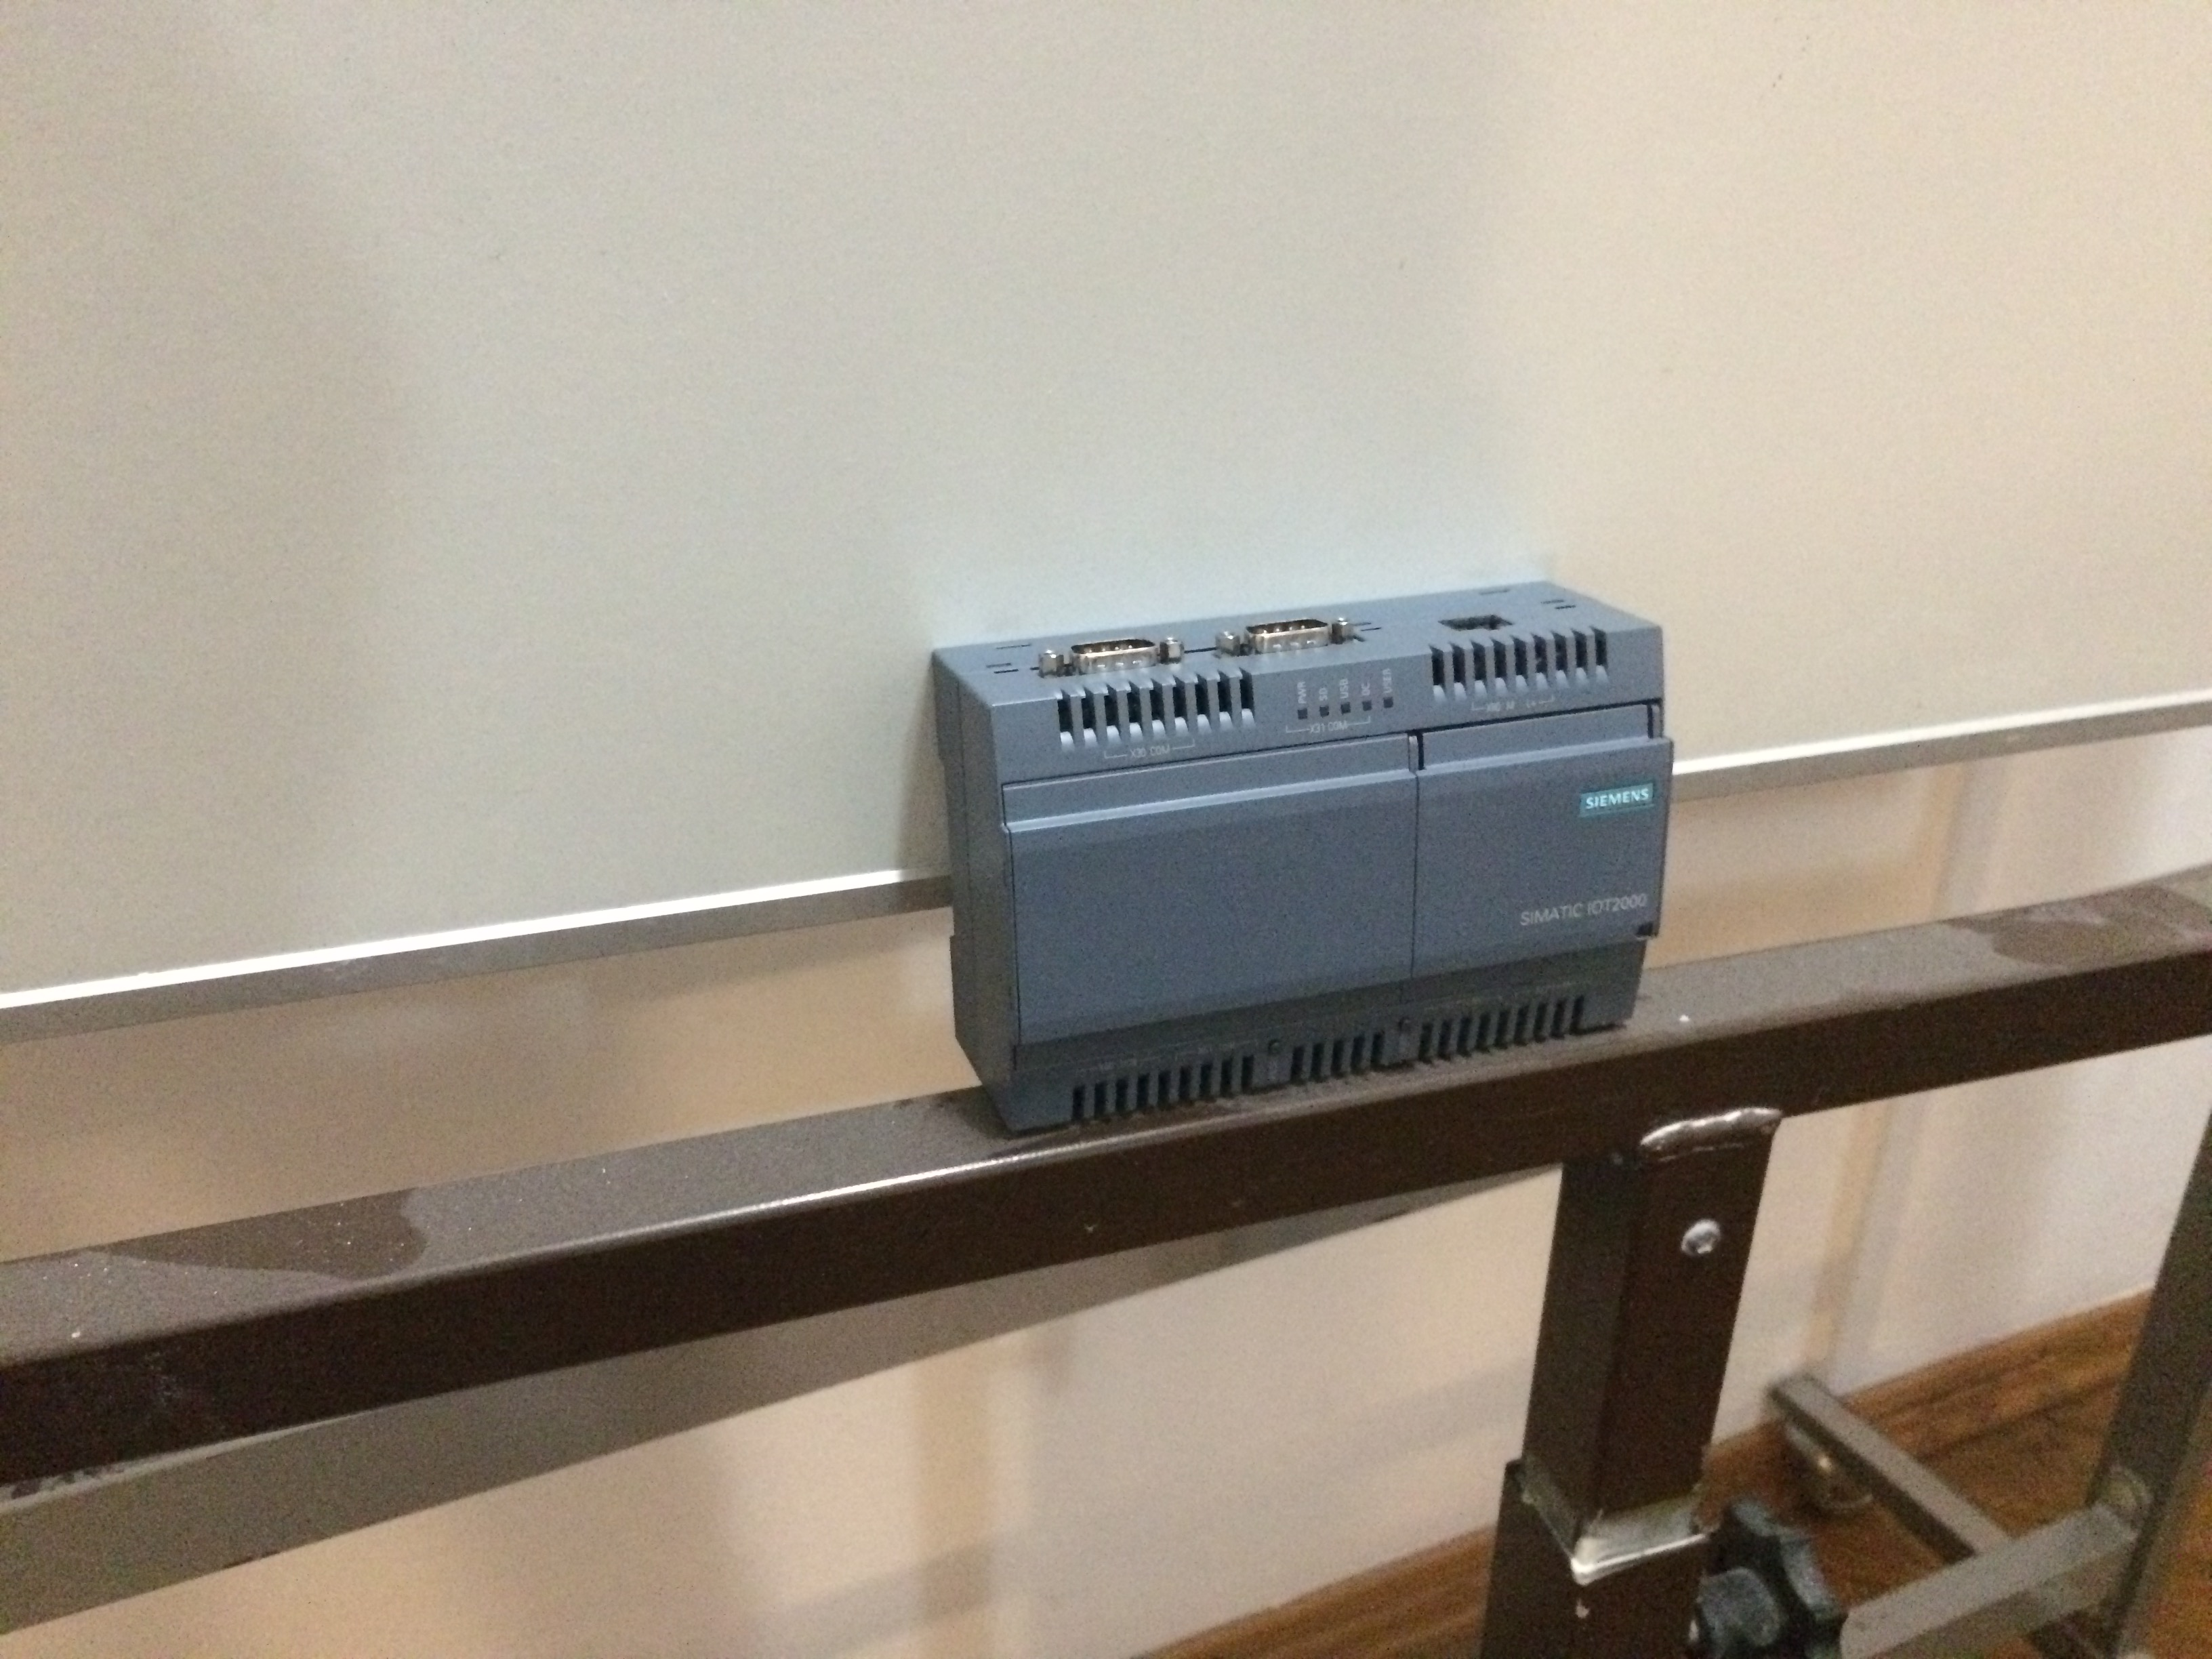iot2000: (927, 579, 1677, 1140)
